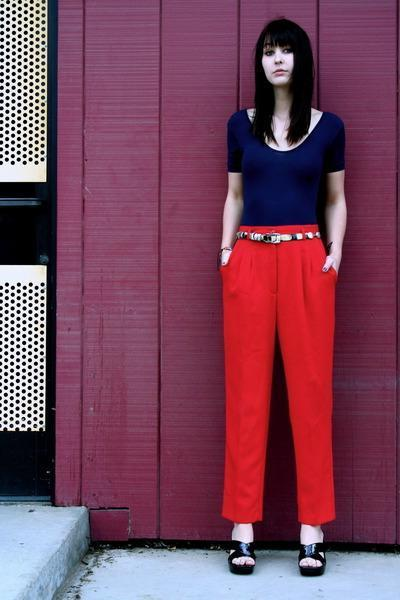short sleeve shirt: (220, 109, 352, 232)
trousers: (213, 223, 341, 529)
